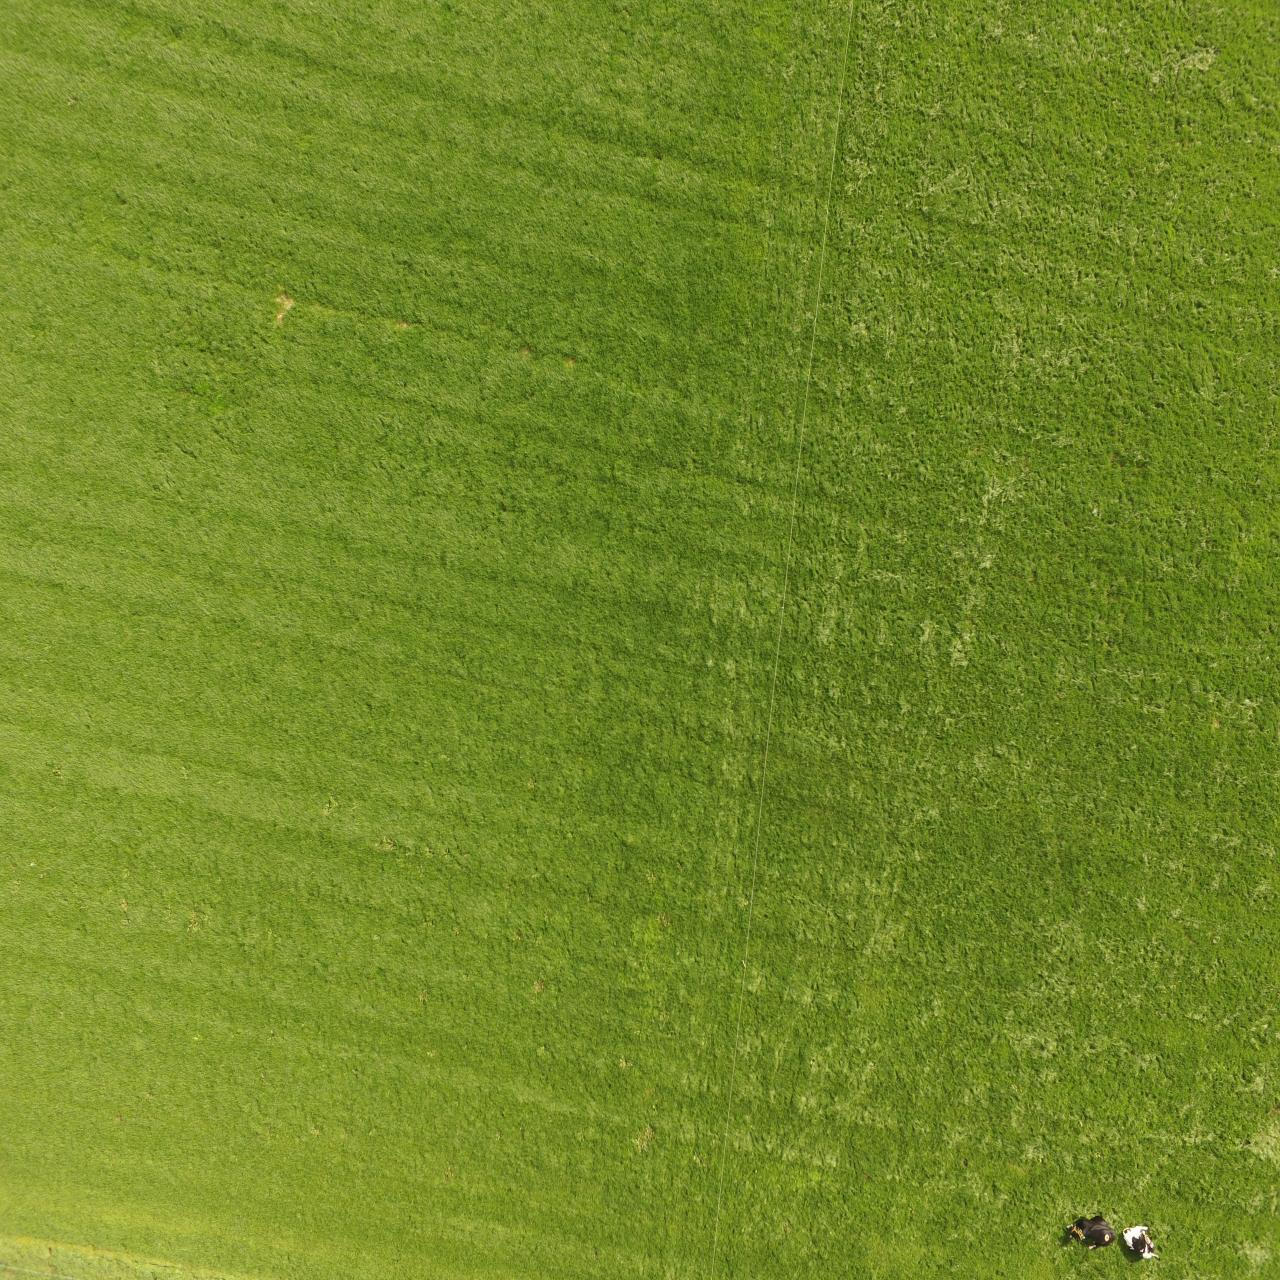cow: (1065, 1214, 1116, 1250), (1122, 1224, 1160, 1261)
